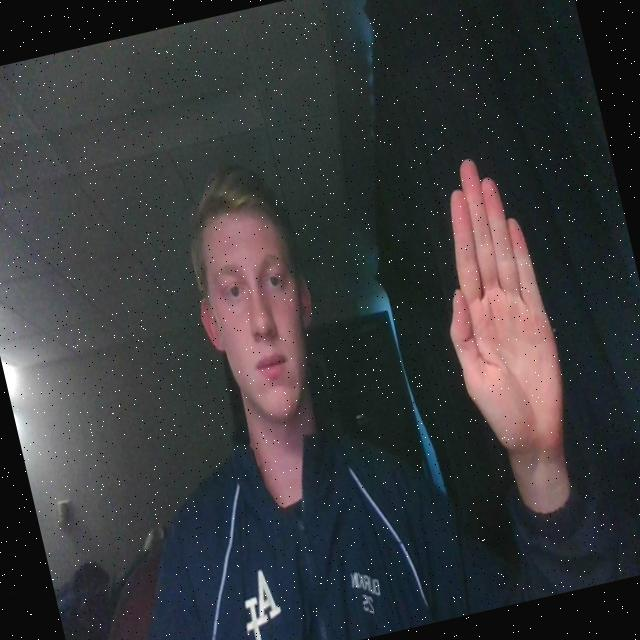paper: (402, 125, 599, 531)
